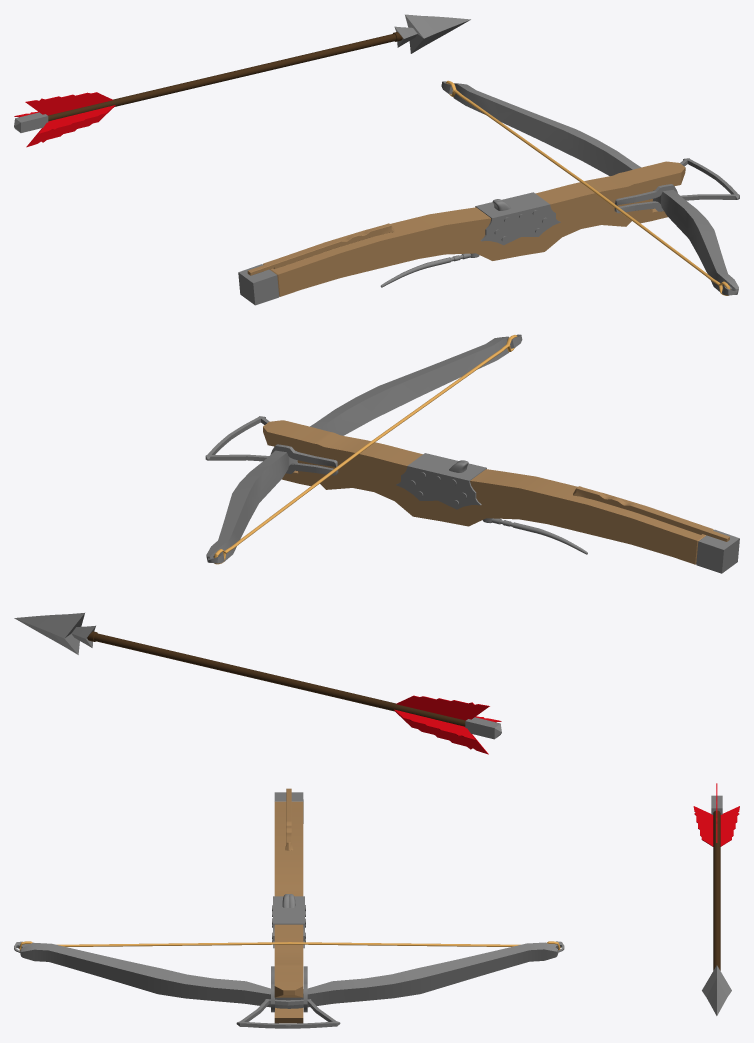
Rendered from ballesta_Fixed.fbx.
3 renders of one model, top to bottom at view 1: azimuth 30°, elevation 25°; view 2: azimuth 150°, elevation 25°; view 3: azimuth 270°, elevation 25°, orthographic. The views are drawn at different scales.
Visible parts, largest first — view 1: cuerpo, arco, arrow, placa metalica, cuerda, accesorio culata, Cube.003, parte frontal, gatillo; view 2: cuerpo, arco, arrow, placa metalica, cuerda, accesorio culata, Cube.002, parte frontal; view 3: arco, cuerpo, arrow, cuerda, parte frontal, placa metalica.
Boxes of the visible parts, left/top/right/bottom form: cuerpo: left=238, top=161, right=685, bottom=305; arco: left=441, top=81, right=738, bottom=295; arrow: left=14, top=14, right=470, bottom=147; placa metalica: left=475, top=192, right=560, bottom=245; cuerda: left=446, top=80, right=730, bottom=295; accesorio culata: left=247, top=223, right=394, bottom=275; Cube.003: left=614, top=184, right=677, bottom=213; parte frontal: left=680, top=158, right=739, bottom=200; gatillo: left=380, top=253, right=479, bottom=287; cuerpo: left=263, top=420, right=739, bottom=573; arco: left=206, top=334, right=522, bottom=563; arrow: left=14, top=613, right=501, bottom=754; placa metalica: left=396, top=453, right=486, bottom=509; cuerda: left=214, top=335, right=517, bottom=564; accesorio culata: left=573, top=486, right=729, bottom=541; Cube.002: left=270, top=444, right=338, bottom=475; parte frontal: left=205, top=416, right=269, bottom=461; arco: left=14, top=941, right=564, bottom=1008; cuerpo: left=274, top=792, right=303, bottom=1023; arrow: left=693, top=783, right=739, bottom=1015; cuerda: left=19, top=941, right=560, bottom=950; parte frontal: left=236, top=999, right=340, bottom=1028; placa metalica: left=273, top=896, right=304, bottom=948.
Size of the model in its own units: 604 by 441 by 53.7.
